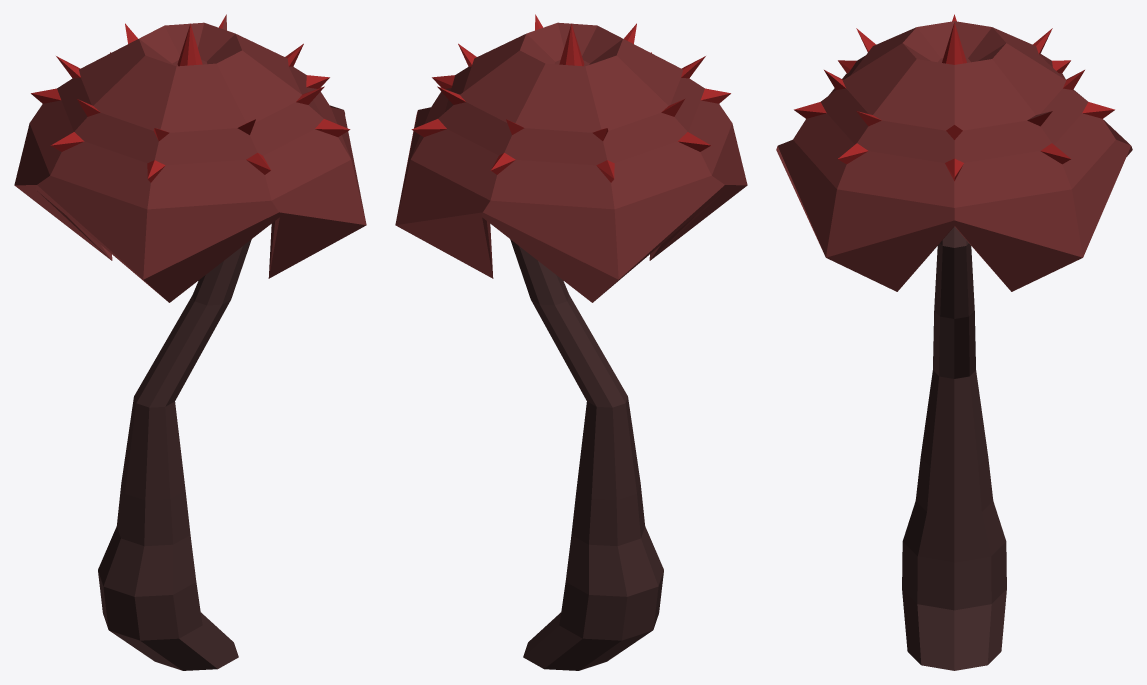
File: Hongo silvestre 2.fbx
The picture shows the model from 3 angles, left to right: view 1: azimuth 30°, elevation 25°; view 2: azimuth 150°, elevation 25°; view 3: azimuth 270°, elevation 25°; orthographic projection.
Parts seen in each view (by area): view 1: Hongo; view 2: Hongo; view 3: Hongo.
Part boxes in pixels (x1,y1,x2,y2): Hongo: [14, 14, 366, 670]; Hongo: [395, 14, 747, 670]; Hongo: [776, 14, 1132, 670].
Size of the model in its own units: 28.59 by 55.56 by 28.59.
